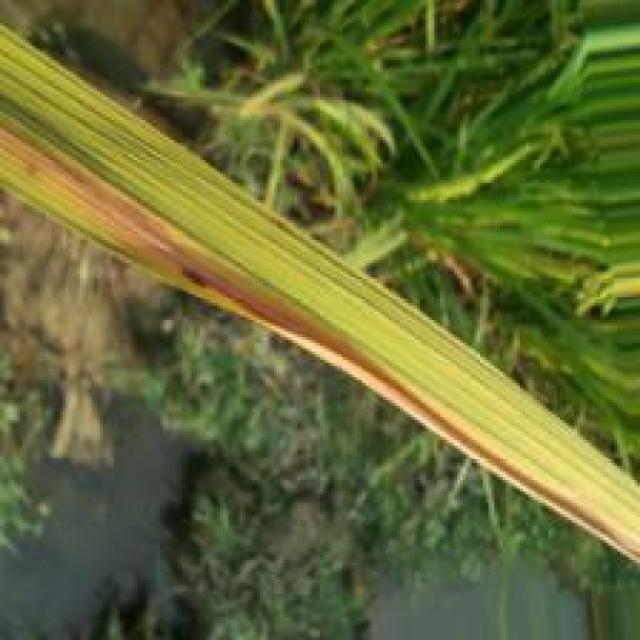Rice Tungro: (3, 120, 436, 425)
